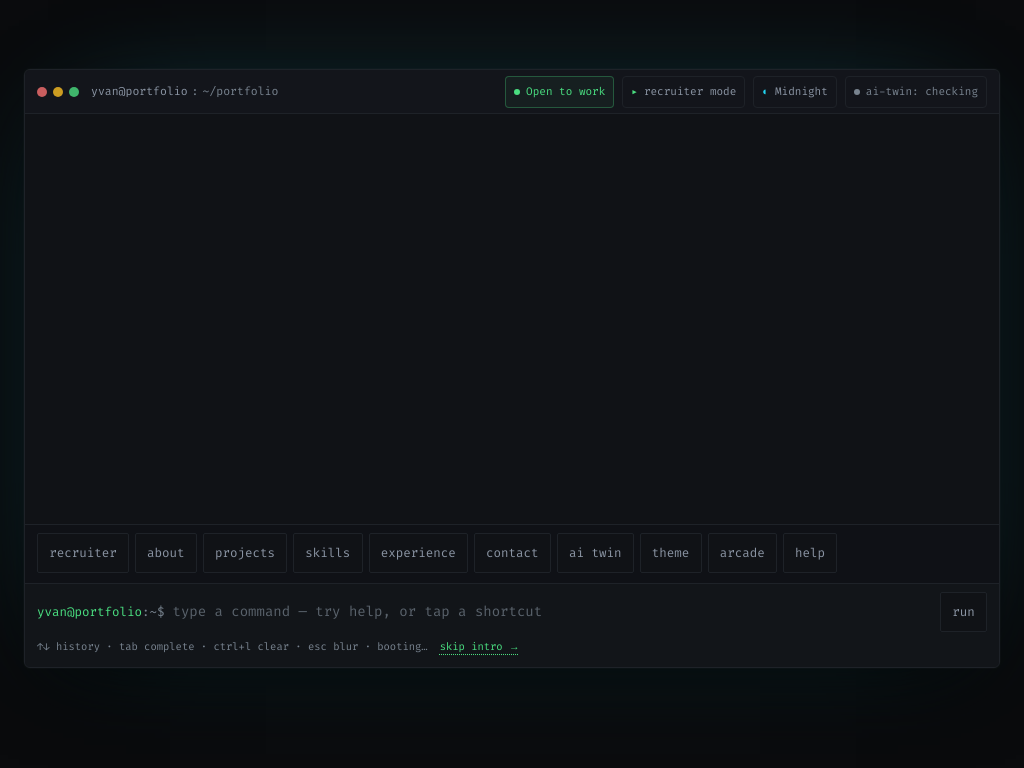
Test: terminal boot › skip intro reveals the welcome panel immediately
This screenshot has width=1024, height=768.
Click the button "skip intro →".
click(480, 648)  # box [440,639,519,656]
(page scrolled)
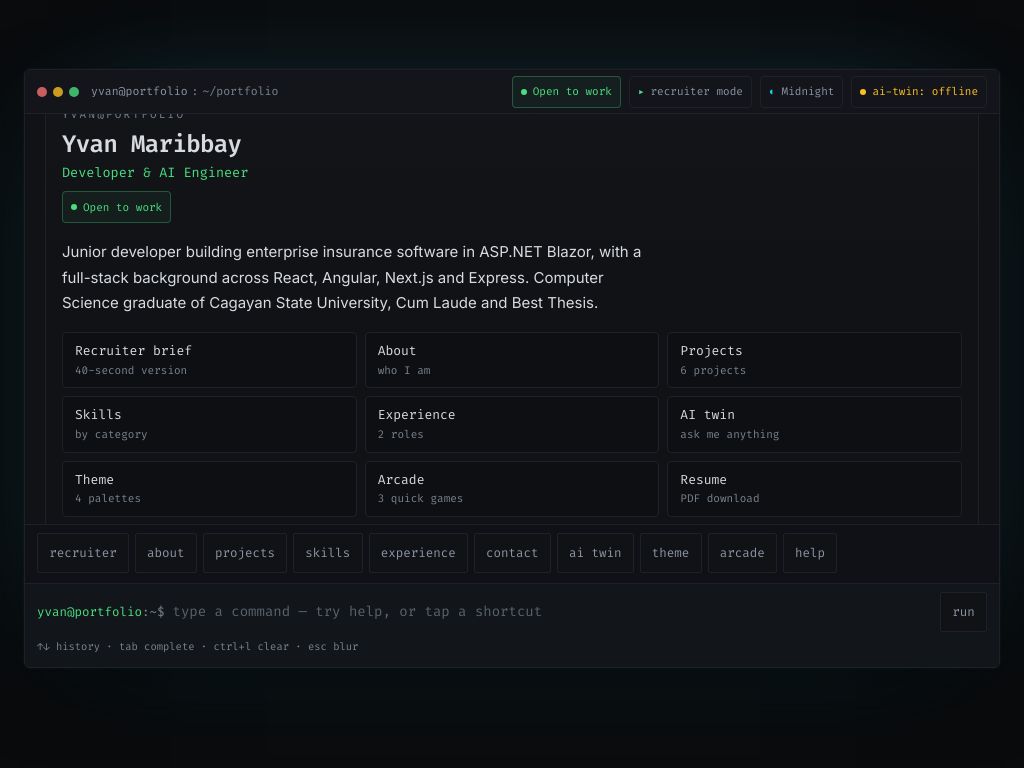
Now the element that starts with "welcome" is shown, box [45,114,979,524]
